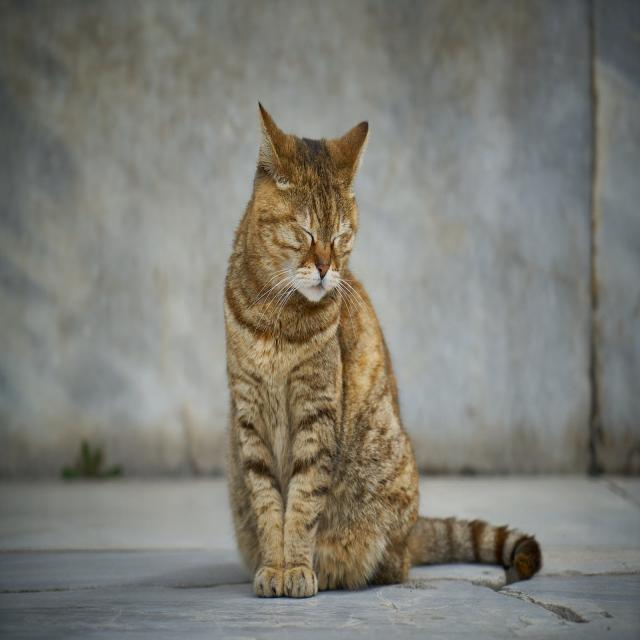cat: (215, 91, 550, 607)
